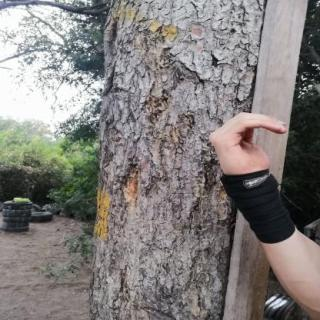HAA: (198, 102, 300, 190)
